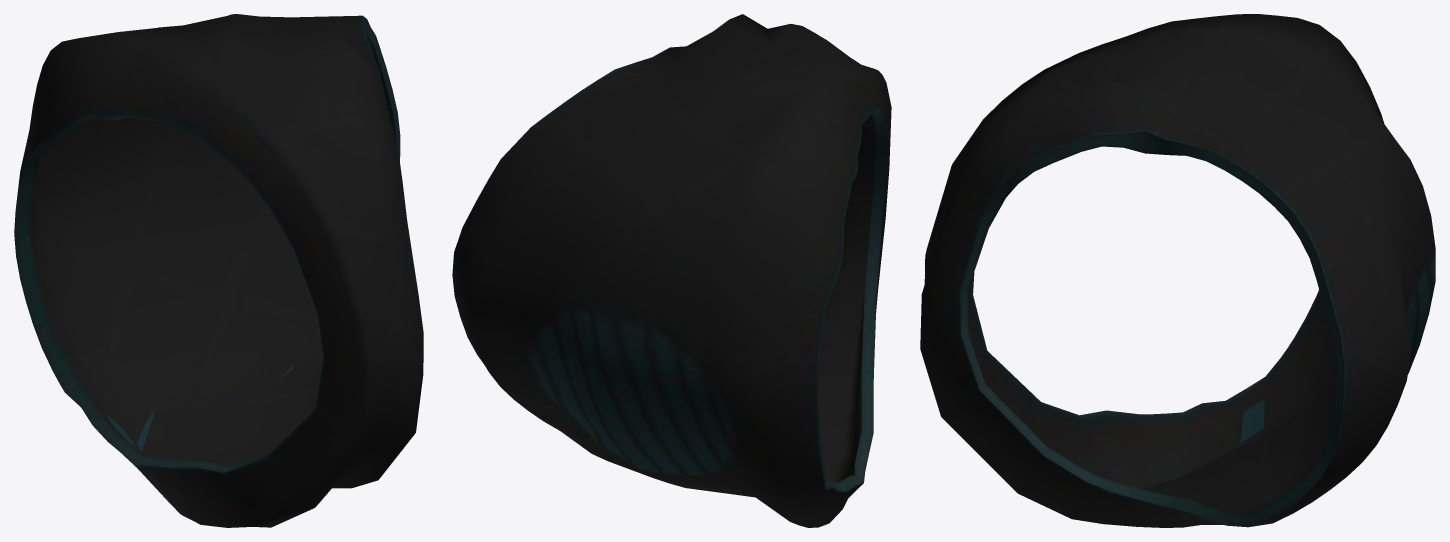
3 renders of one model, left to right at view 1: azimuth 30°, elevation 25°; view 2: azimuth 150°, elevation 25°; view 3: azimuth 270°, elevation 25°, orthographic. The views are drawn at different scales.
Visible parts, largest first — view 1: elbow_belt_L; view 2: elbow_belt_L; view 3: elbow_belt_L.
Part boxes in pixels (x1,y1,x2,y2): elbow_belt_L: [14, 14, 423, 527]; elbow_belt_L: [452, 14, 891, 527]; elbow_belt_L: [920, 14, 1435, 527].
Size of the model in its own units: 14.69 by 16.84 by 16.57.
1 material, 1 textured.
